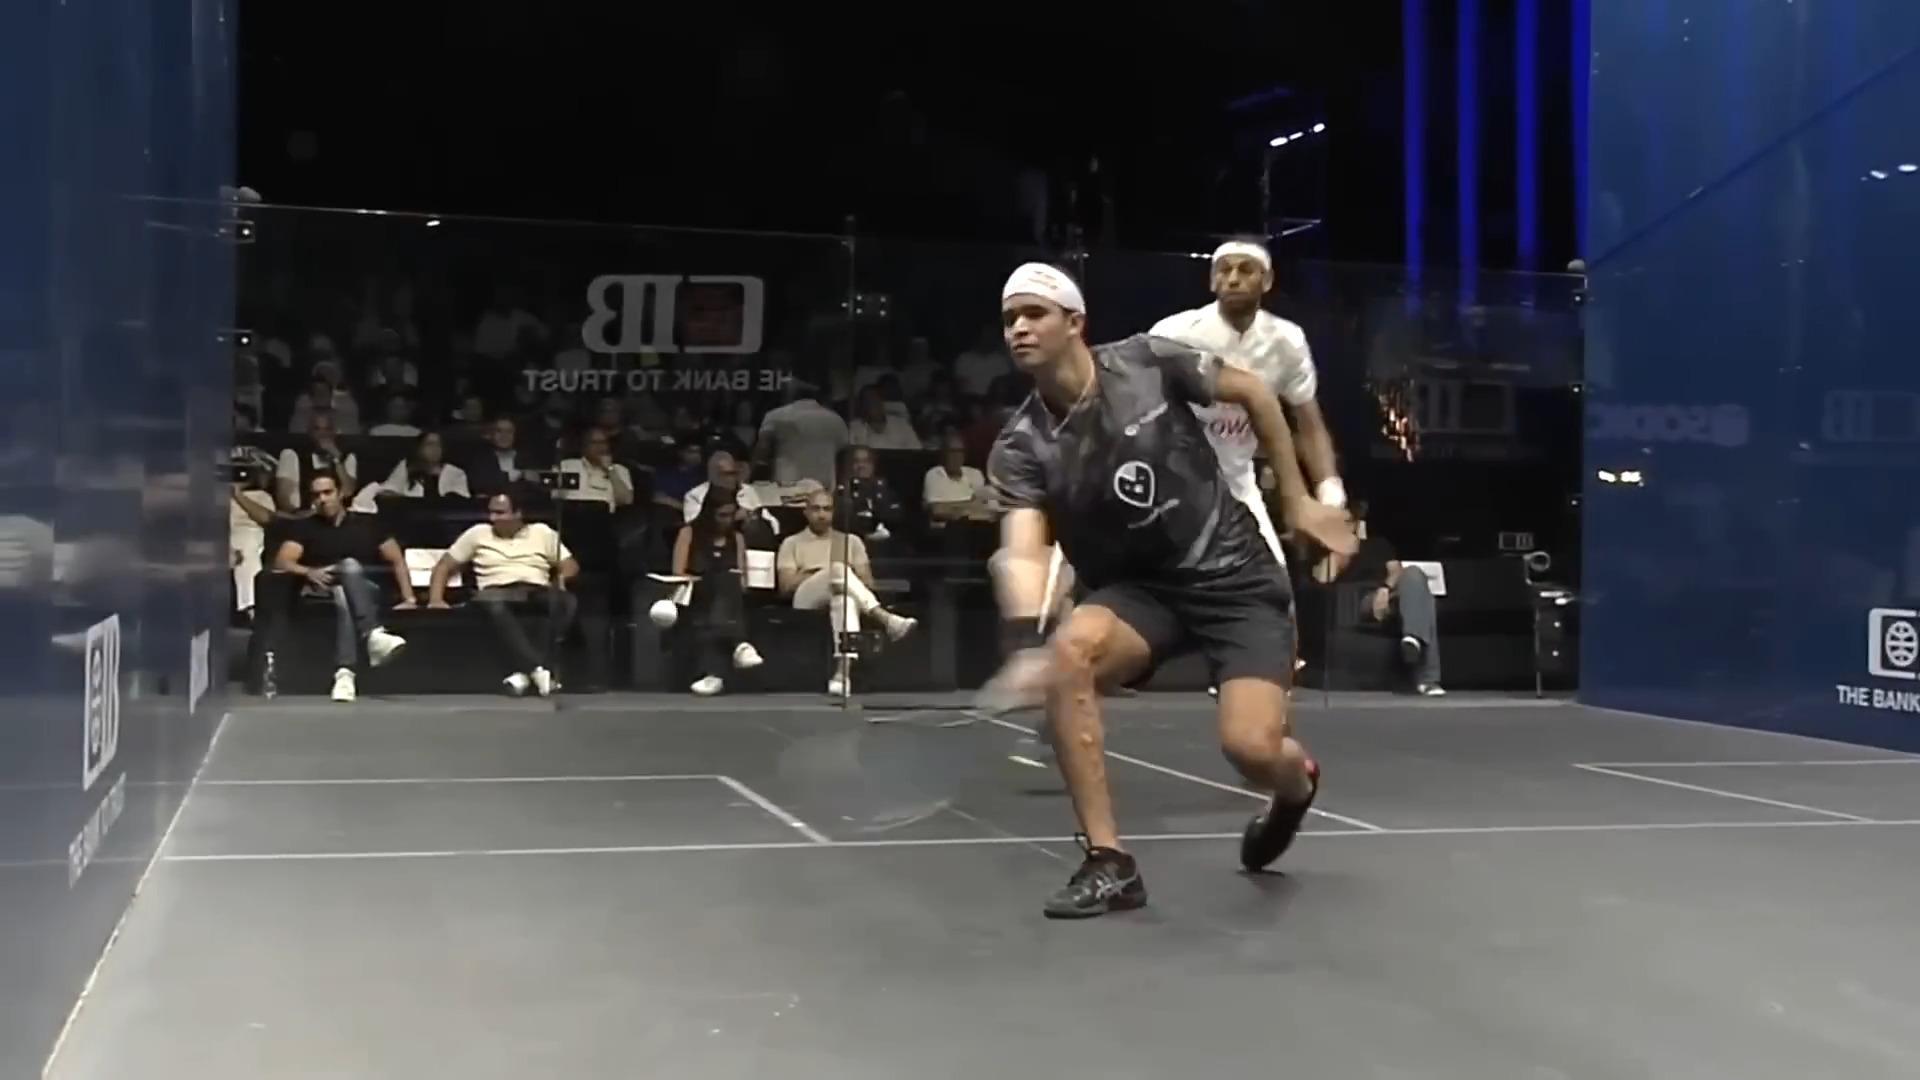Squash-Ball: (628, 585, 695, 637)
